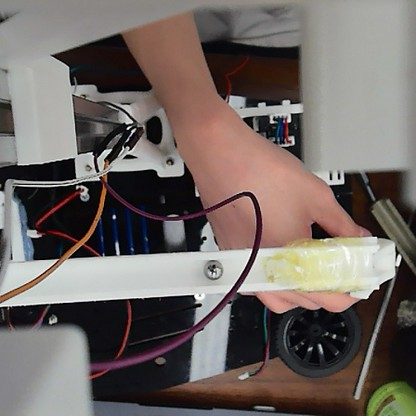ironball: (201, 257, 223, 280)
